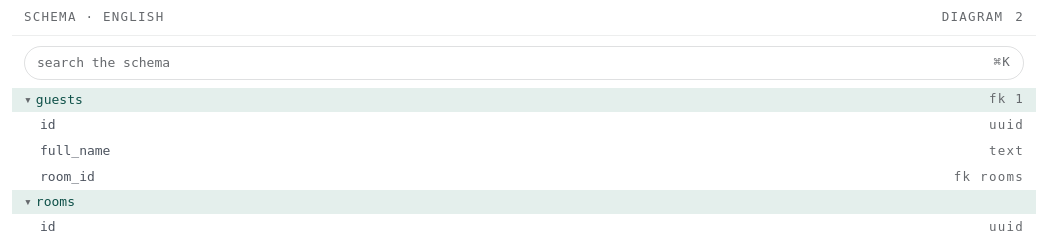
Scenario: the schema panel › a match inside a collapsed table opens it
Click the 1st button "▾" at coordinates (24, 100), box [12, 88, 36, 112]
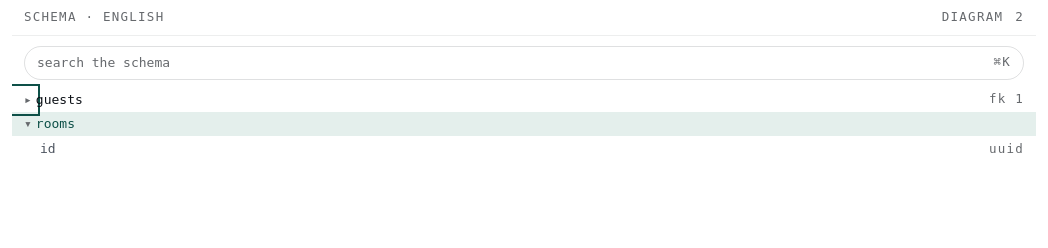
Expected: the text "full_name" is gone
Type "full" into the field named "Search the database schema" at coordinates (511, 63), box [37, 51, 985, 75]
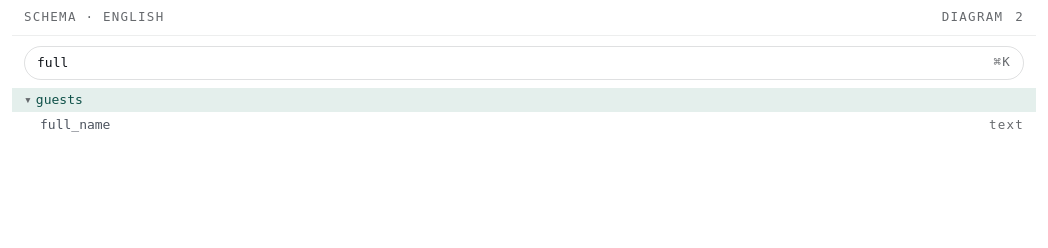
Expected: the text "full_name" is shown, [40, 113, 110, 137]
